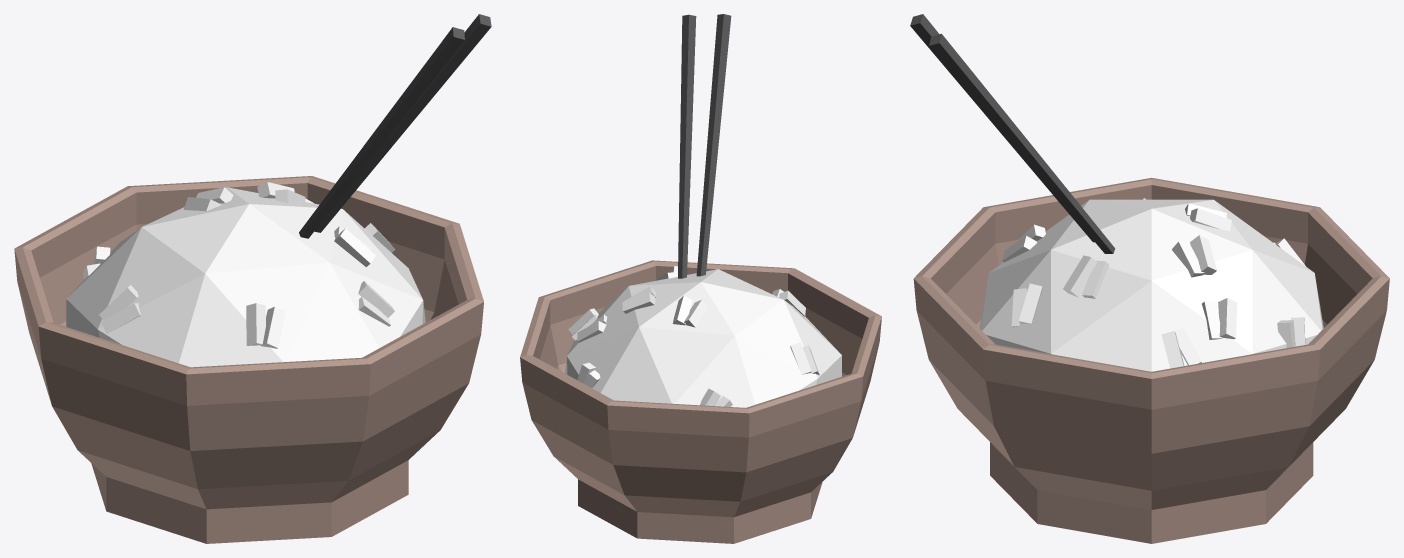
File: food-rice-bowl.glb
3 renders of one model, left to right at view 1: azimuth 30°, elevation 25°; view 2: azimuth 150°, elevation 25°; view 3: azimuth 270°, elevation 25°, orthographic. The views are drawn at different scales.
Parts seen in each view (by area): view 1: Bowl_of_Rice_Cube.024; view 2: Bowl_of_Rice_Cube.024; view 3: Bowl_of_Rice_Cube.024.
Boxes of the visible parts, x1,y1,x2,y2 form: Bowl_of_Rice_Cube.024: (14,14,491,543); Bowl_of_Rice_Cube.024: (520,14,881,543); Bowl_of_Rice_Cube.024: (910,14,1389,543).
Bounding box in the file's own units: 8.84 × 10.31 × 8.91.
